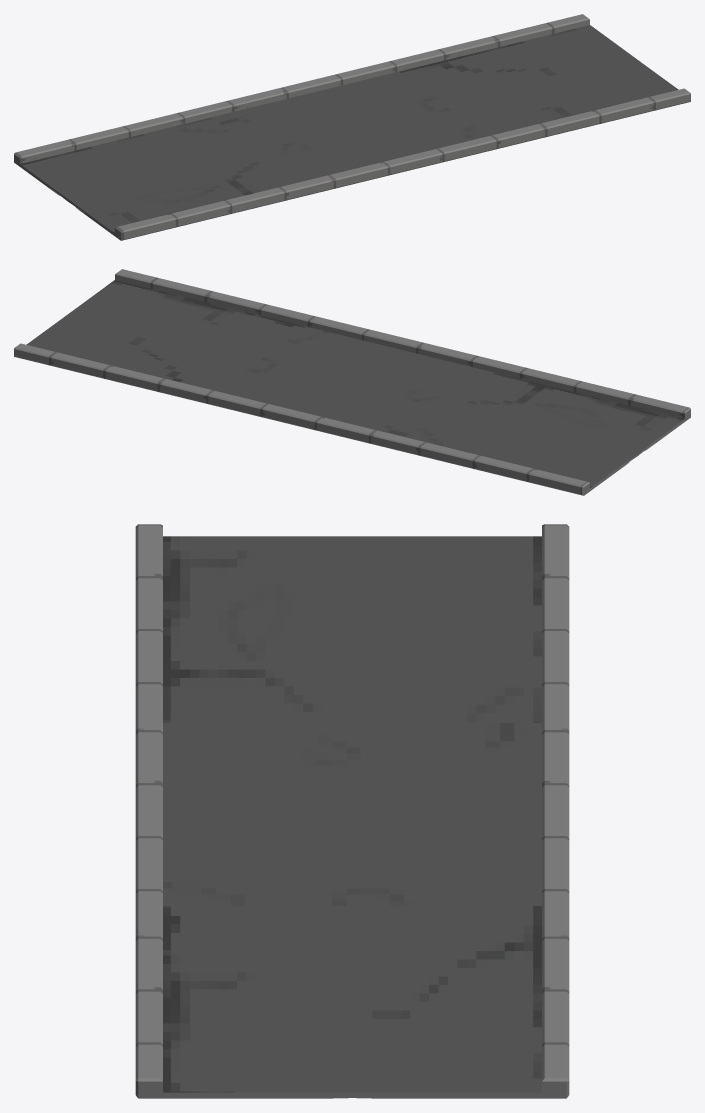
File: doroga mini.obj
The picture shows the model from 3 angles, top to bottom: view 1: azimuth 30°, elevation 25°; view 2: azimuth 150°, elevation 25°; view 3: azimuth 270°, elevation 25°; orthographic projection. The views are drawn at different scales.
Parts seen in each view (by area): view 1: Cube.001; view 2: Cube.001; view 3: Cube.001.
Part boxes in pixels (x1,y1,x2,y2): Cube.001: [14, 14, 690, 240]; Cube.001: [14, 269, 690, 495]; Cube.001: [135, 524, 569, 1098].
Size of the model in its own units: 31.45 by 0.5119 by 10.36.
Materials: 1 (1 with a texture image).
